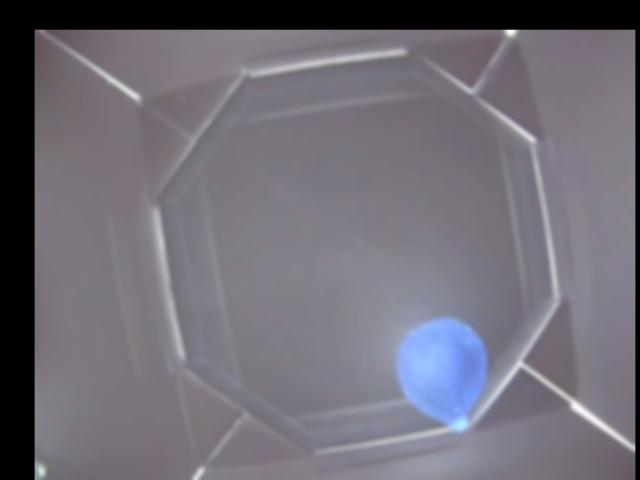Potato: (398, 316, 490, 432)
